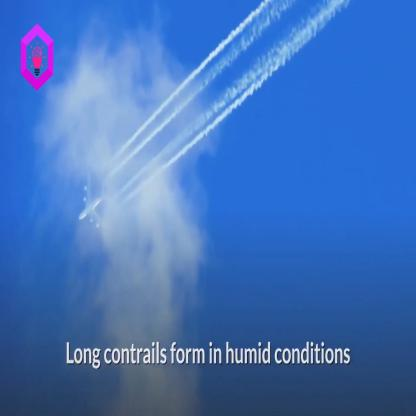plane: (75, 178, 113, 236)
